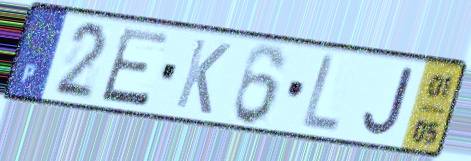2: (50, 19, 111, 103)
6: (230, 40, 288, 129)
E: (96, 25, 173, 110)
J: (359, 65, 417, 140)
K: (172, 35, 234, 118)
L: (298, 51, 343, 137)
